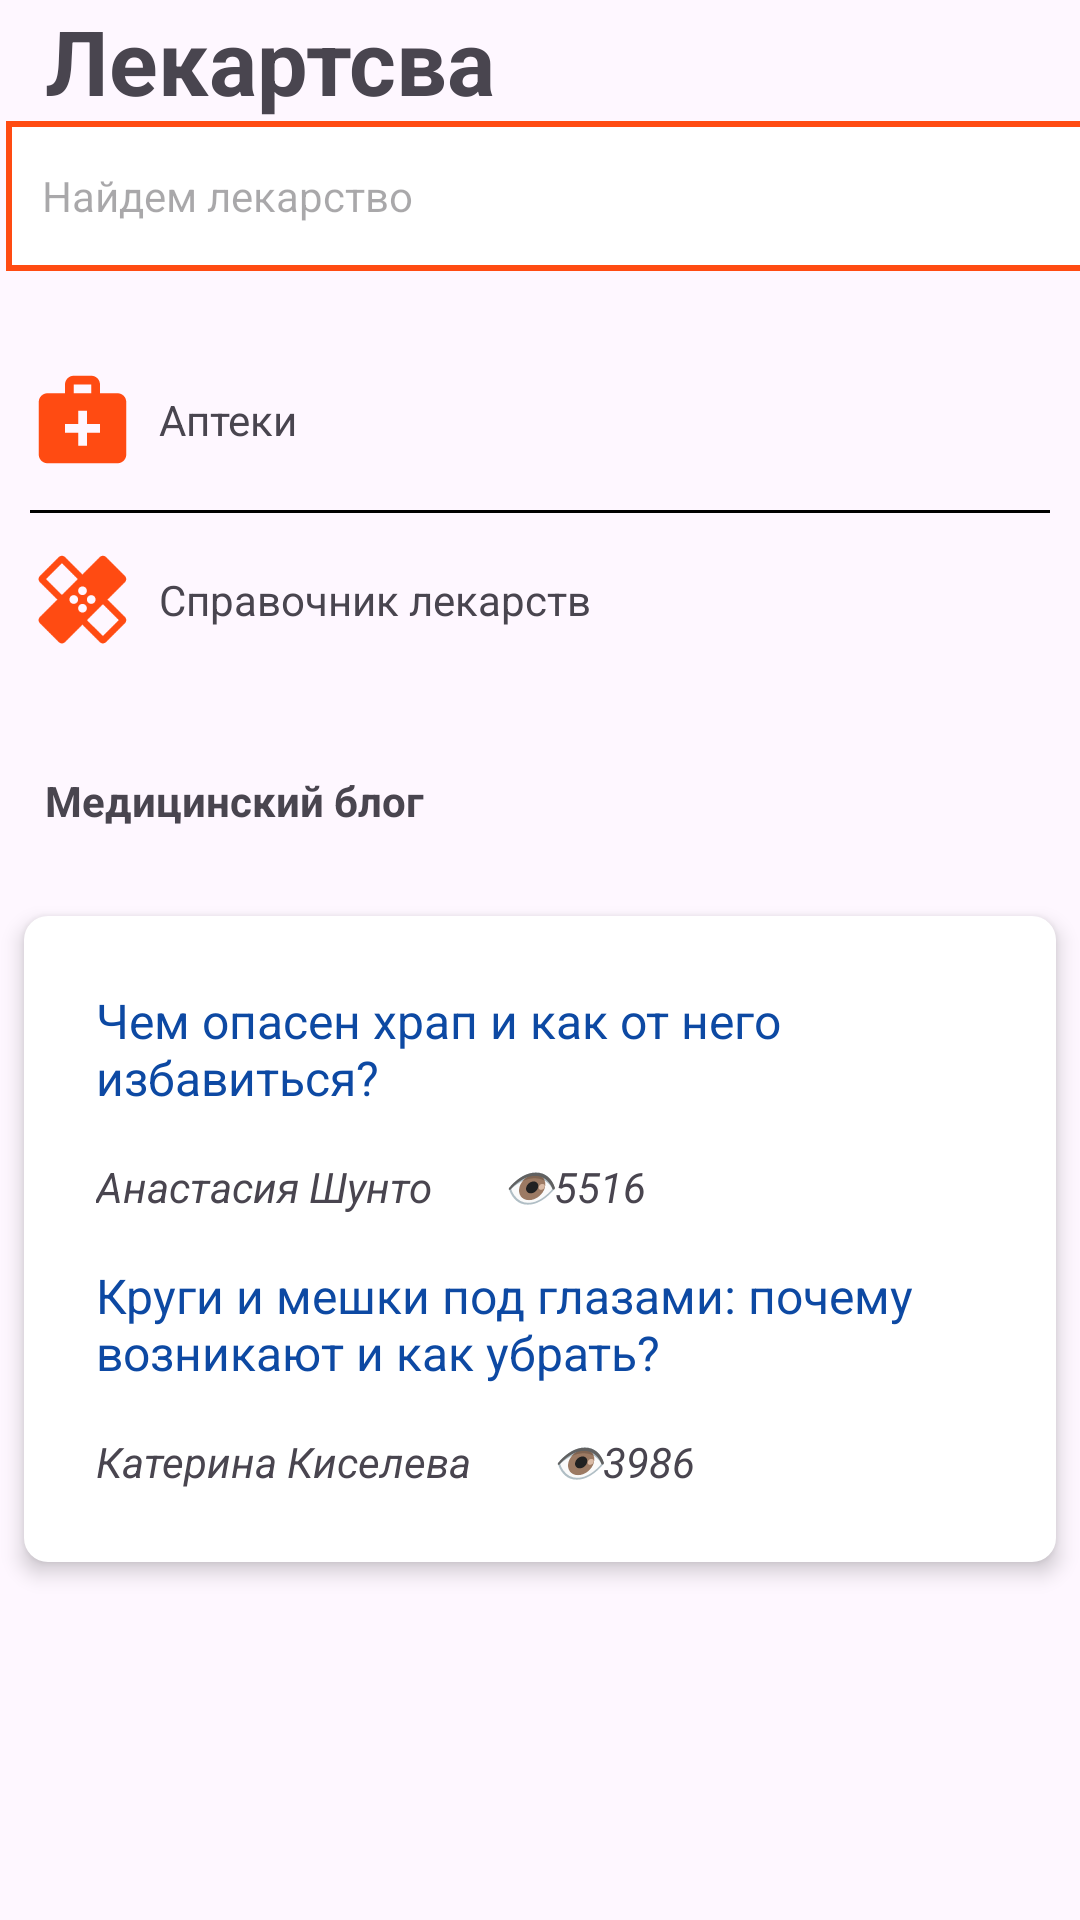

Named icons in this screenshot (1080px x 1920px) and their centers, (x=x, y=y):
medical services: (x=82, y=419)
